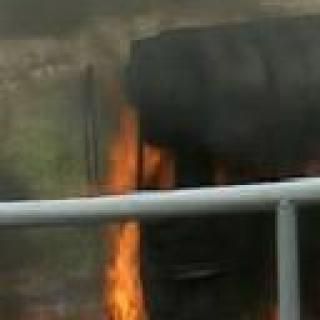fire: (92, 109, 197, 320)
